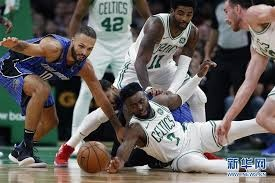falling: (114, 67, 272, 175)
